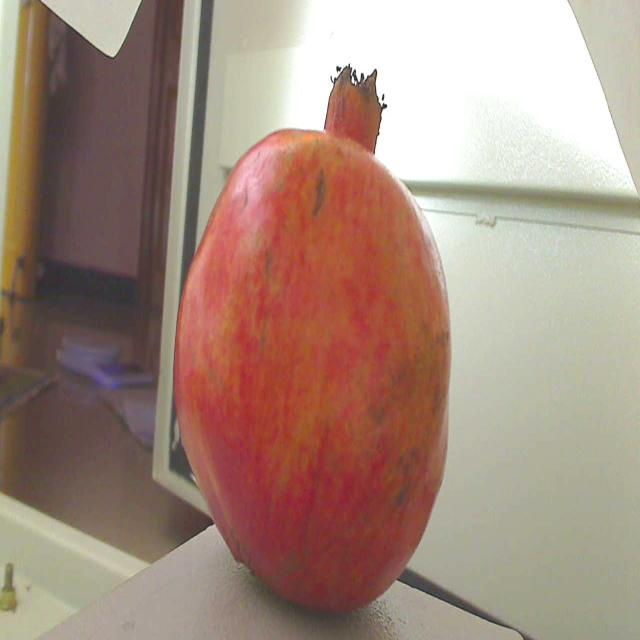pomegranate: (168, 67, 460, 627)
